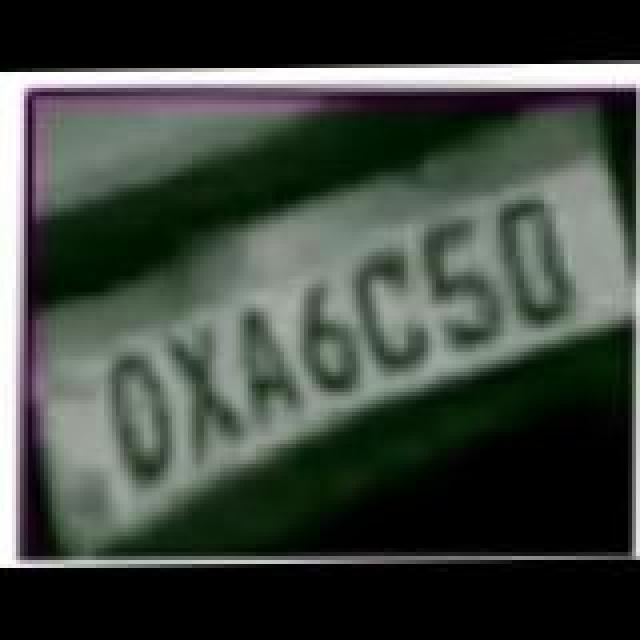5: (424, 218, 504, 354)
6: (296, 286, 368, 402)
A: (232, 306, 304, 430)
C: (352, 252, 432, 380)
D: (498, 198, 582, 334)
O: (108, 356, 180, 496)
X: (168, 330, 248, 458)
